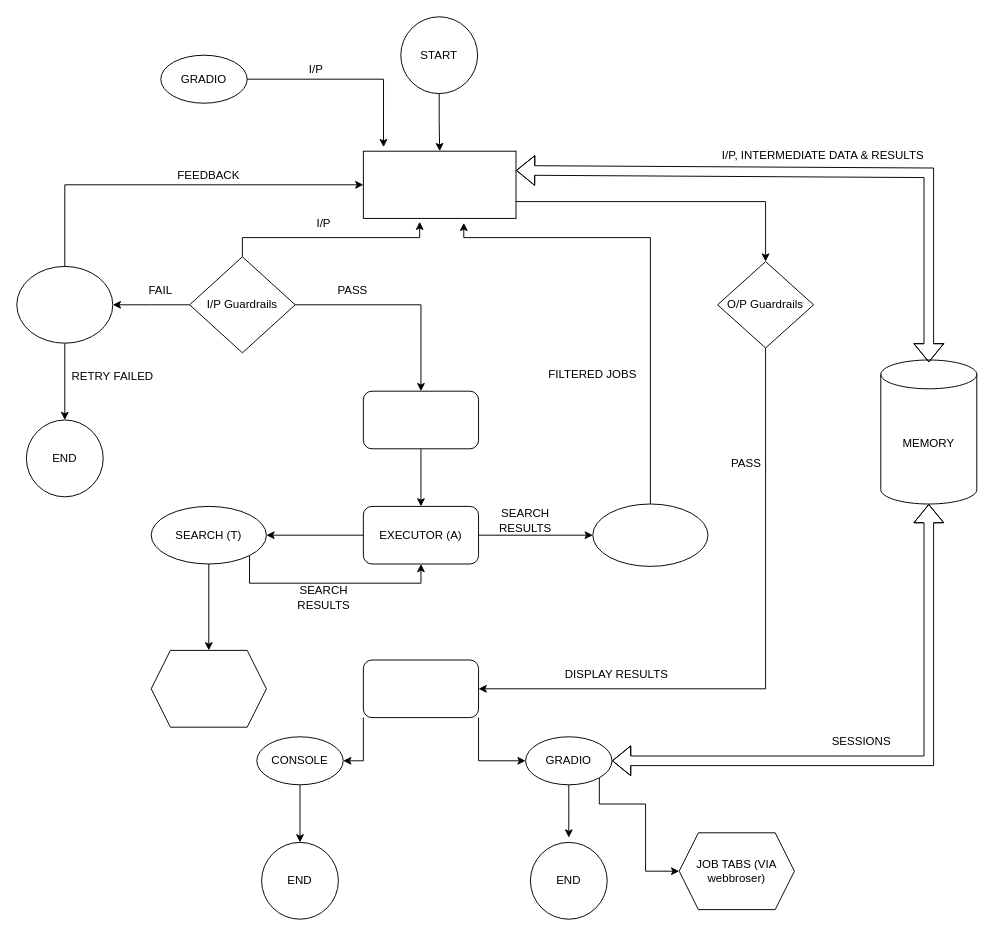
This 994x936 diagram has some shape labels left out. The shapes that lost their labels are listed below. From the top down, each one's centre as x and y in pixels, then its label:
At (439,184): "ROUTER (PA)".
At (64,304): "RETRY WITH FEEDBACK".
At (420,419): "PLANNER (A)".
At (650,534): "FILTER & LIST (T)".
At (208,688): "BROWSER (VIA PLAYWRIGHT)".
At (420,688): "O/P Manager (A)".
